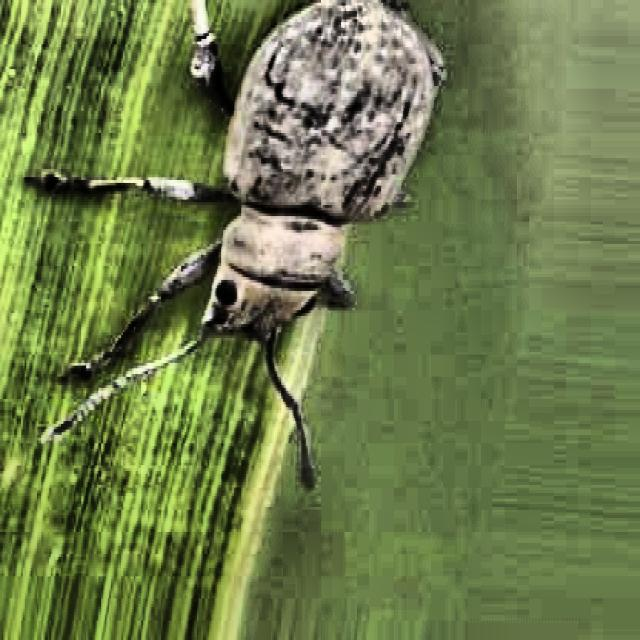Stink bug: (95, 2, 486, 454)
